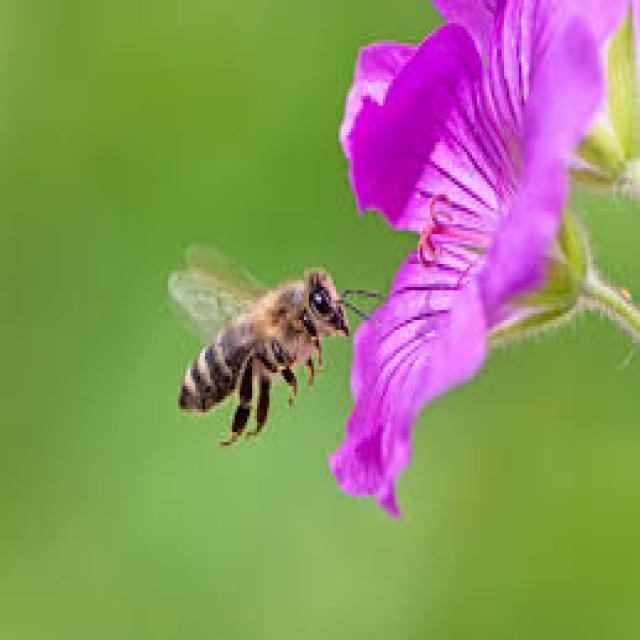Bees: (168, 246, 382, 447)
